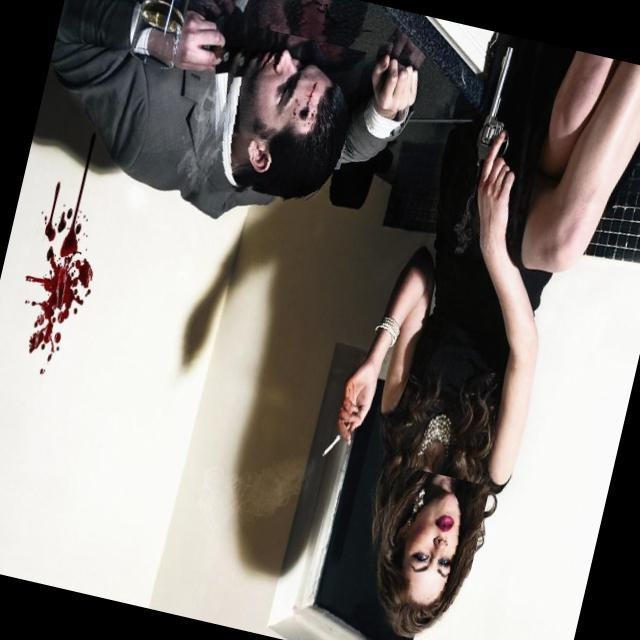cigarette: (309, 400, 362, 474)
